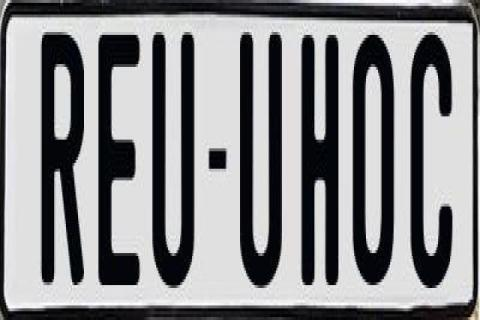0: (350, 35, 392, 299)
C: (410, 29, 458, 291)
E: (98, 35, 144, 303)
H: (302, 32, 342, 282)
R: (40, 24, 84, 282)
U: (238, 29, 282, 299), (150, 29, 194, 288)
